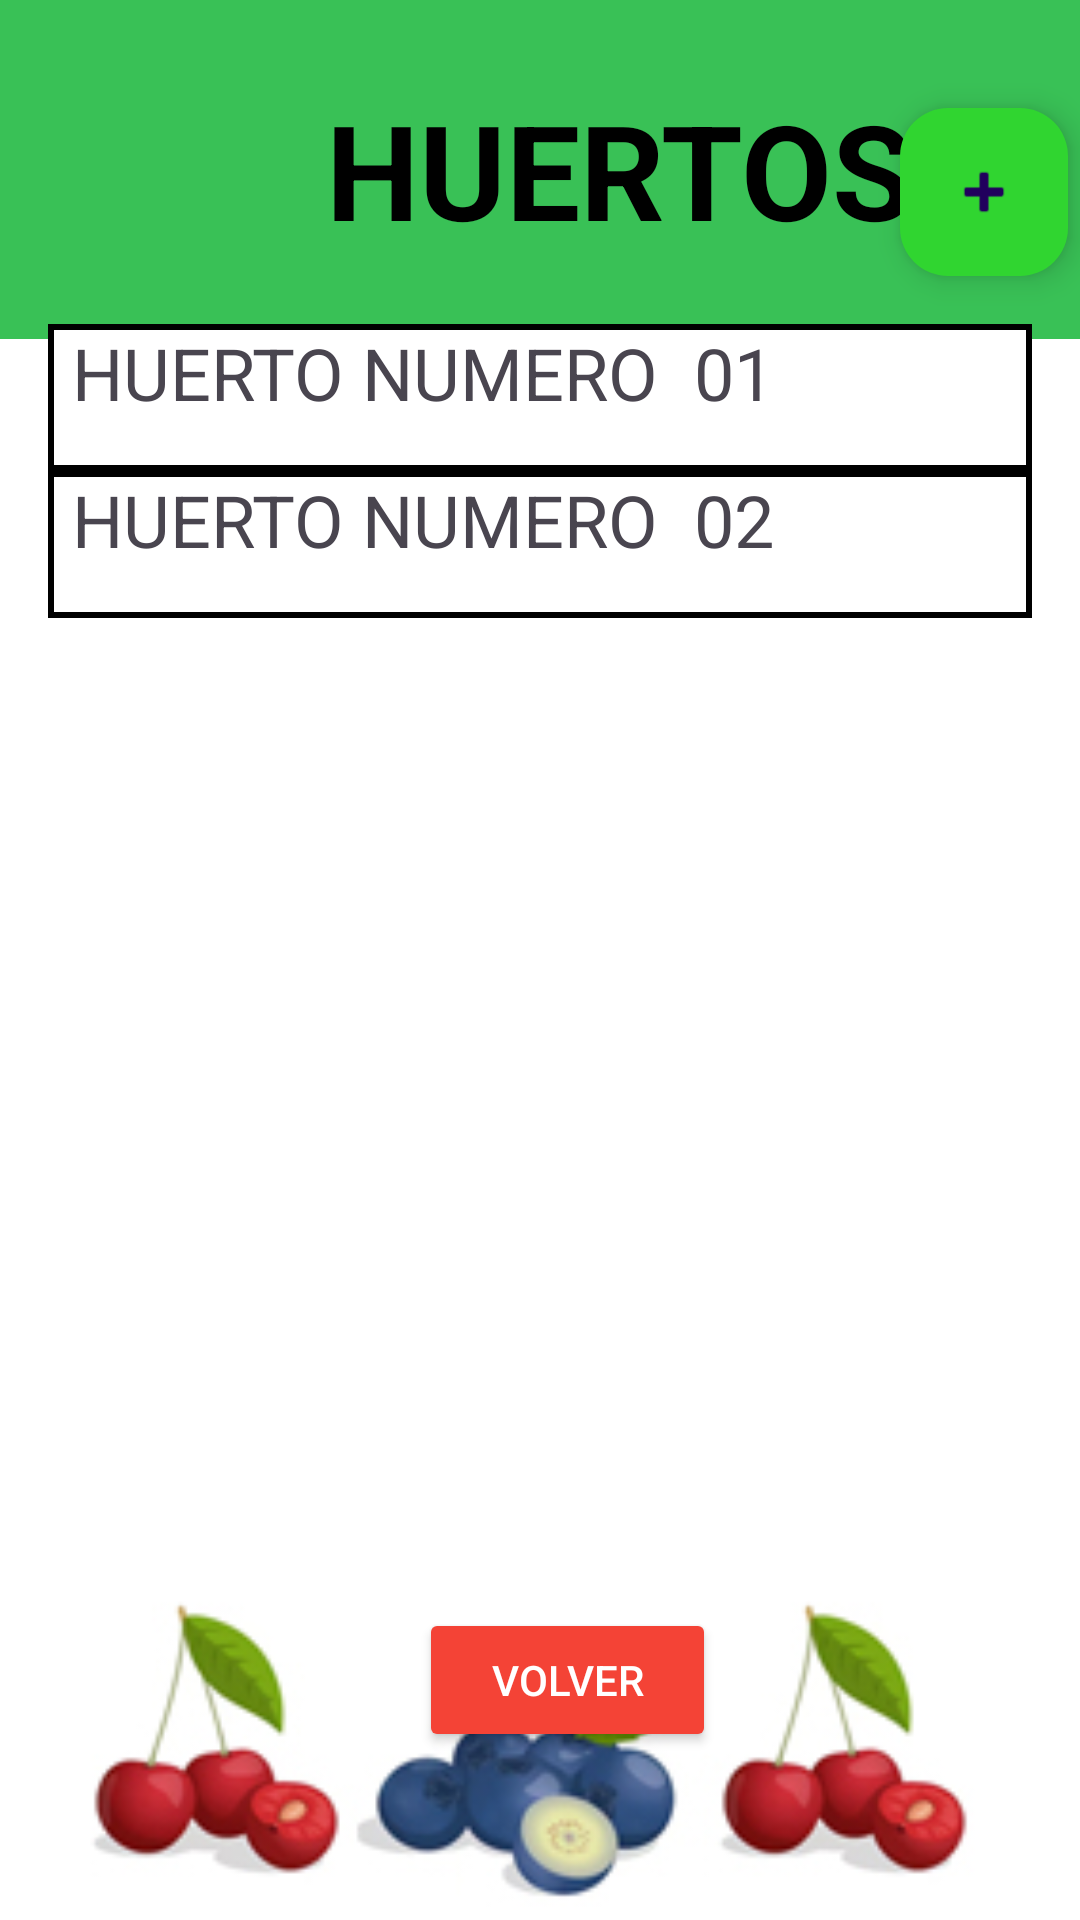

Locate icon controls on the screen. Image size 1080*1920, boxes as bbox=(x1, y1, x2, y2).
Agregar Huerto: bbox=(900, 108, 1068, 276)
